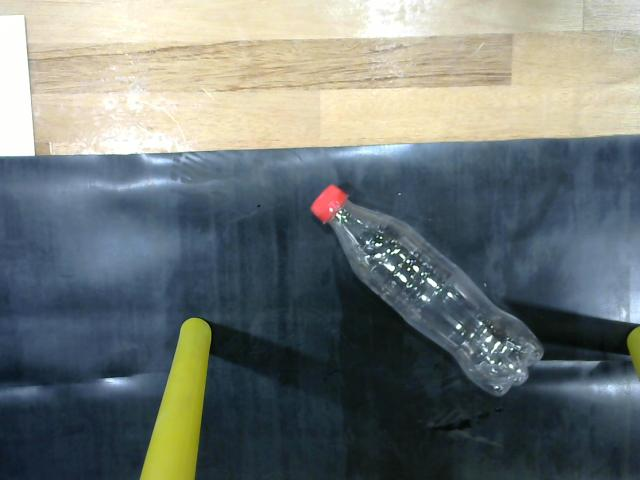bottle: (302, 176, 551, 412)
